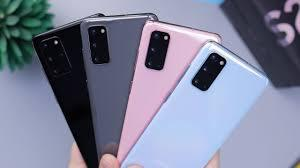Smartphone: (129, 56, 267, 168), (122, 22, 218, 168), (87, 15, 155, 168), (39, 22, 110, 168)
